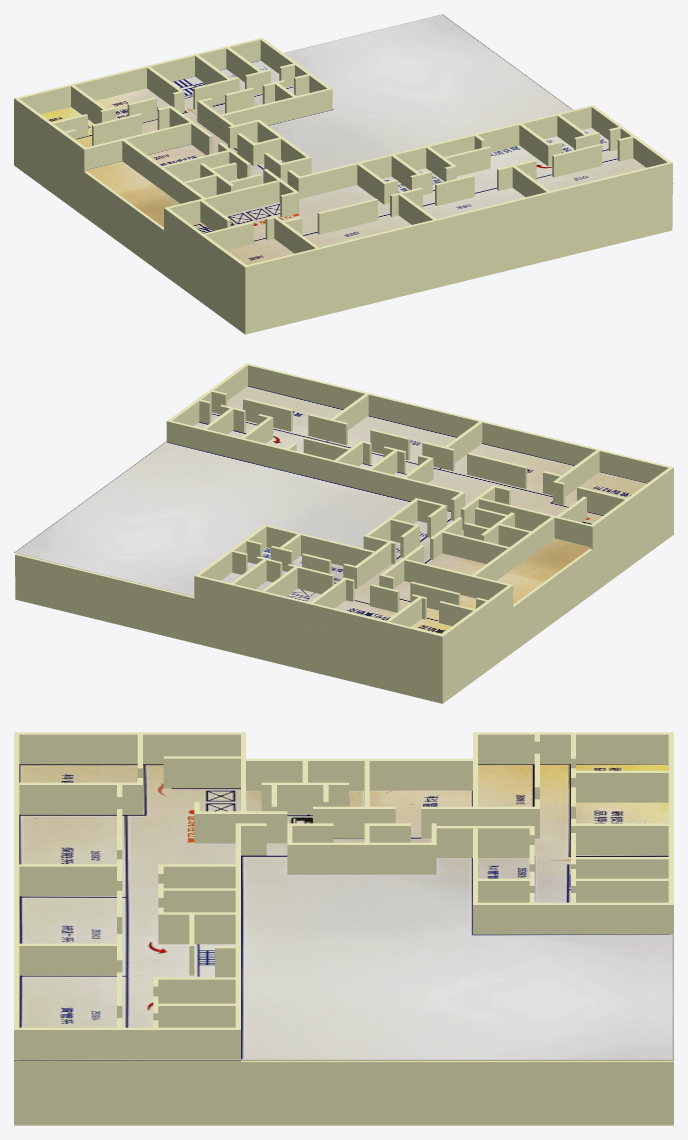
File: College-of-Commerce-9F-cube.glb
The picture shows the model from 3 angles, top to bottom: view 1: azimuth 30°, elevation 25°; view 2: azimuth 150°, elevation 25°; view 3: azimuth 270°, elevation 25°; orthographic projection. The views are drawn at different scales.
Parts seen in each view (by area): view 1: Cube, Plane; view 2: Cube, Plane; view 3: Cube, Plane.
Part boxes in pixels (box(x1,y1,x2,y2)): Cube: box(14, 37, 672, 334); Plane: box(41, 14, 673, 264); Cube: box(15, 363, 673, 703); Plane: box(14, 386, 646, 634); Cube: box(14, 732, 673, 1125); Plane: box(14, 764, 673, 1060).
Bounding box in the file's own units: 40.05 × 6 × 37.42.
2 materials, 1 textured.
